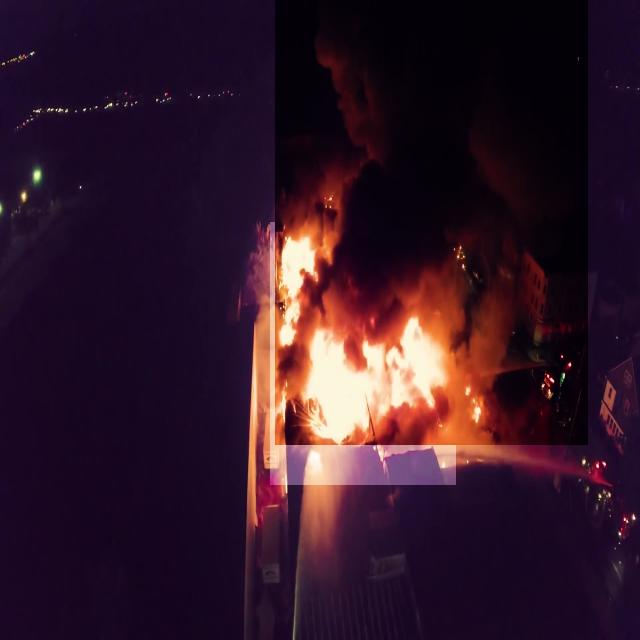Fire: (270, 222, 456, 485)
Smoke: (275, 0, 588, 445)
